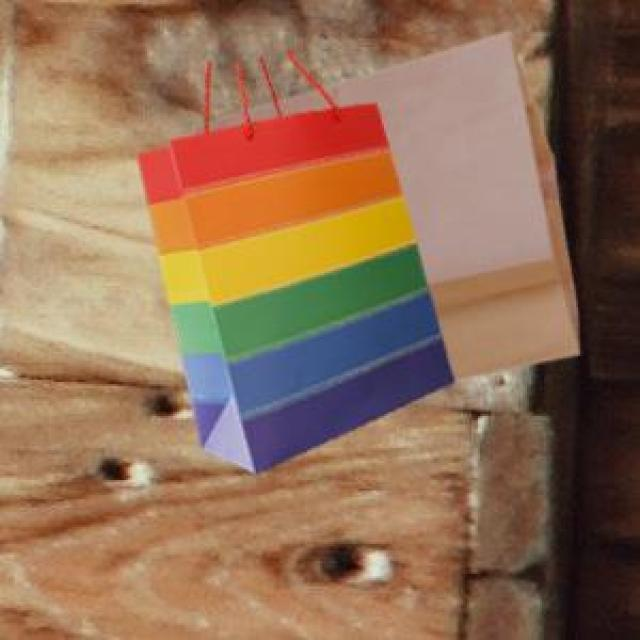paper: (134, 58, 450, 469), (212, 28, 576, 376)
